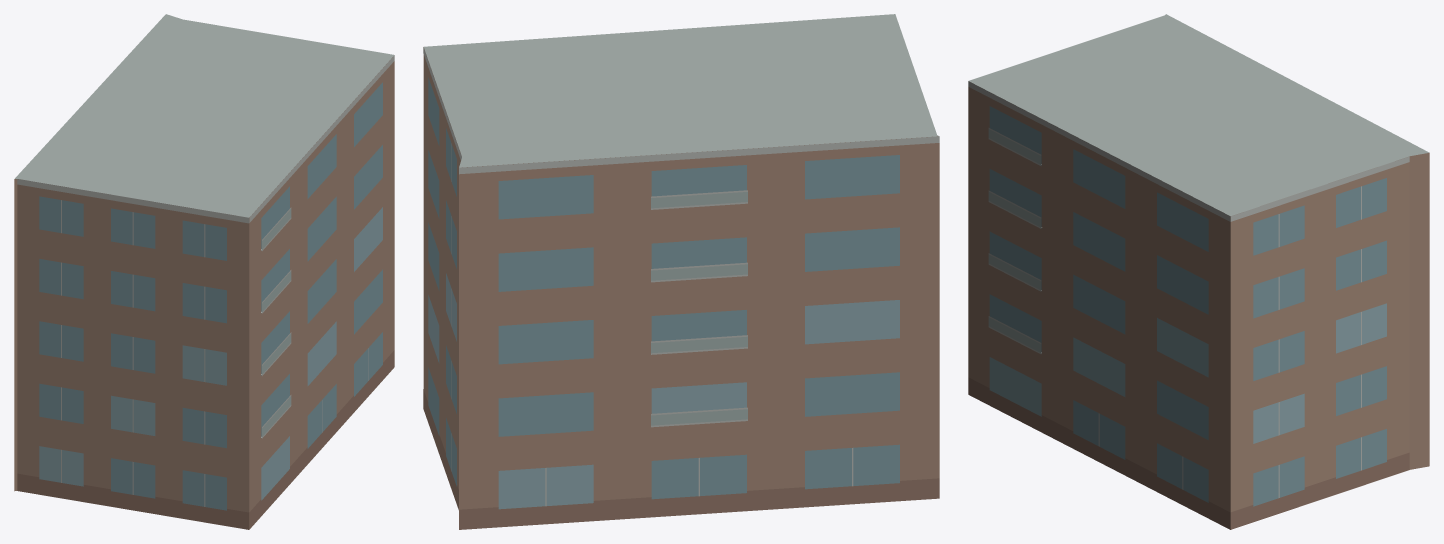
File: survey-upis-32779655.glb
3 views of the same model, side by side, from view 1: azimuth 30°, elevation 25°; view 2: azimuth 150°, elevation 25°; view 3: azimuth 270°, elevation 25° (orthographic). The views are drawn at different scales.
Visible parts, largest first — view 1: survey-upis-32779655.tmp; view 2: survey-upis-32779655.tmp; view 3: survey-upis-32779655.tmp.
Part boxes in pixels (left/top/right/bottom): survey-upis-32779655.tmp: left=14, top=14, right=394, bottom=529; survey-upis-32779655.tmp: left=423, top=14, right=939, bottom=529; survey-upis-32779655.tmp: left=968, top=14, right=1429, bottom=529.
Size of the model in its own units: 18.54 by 13.4 by 17.88.
